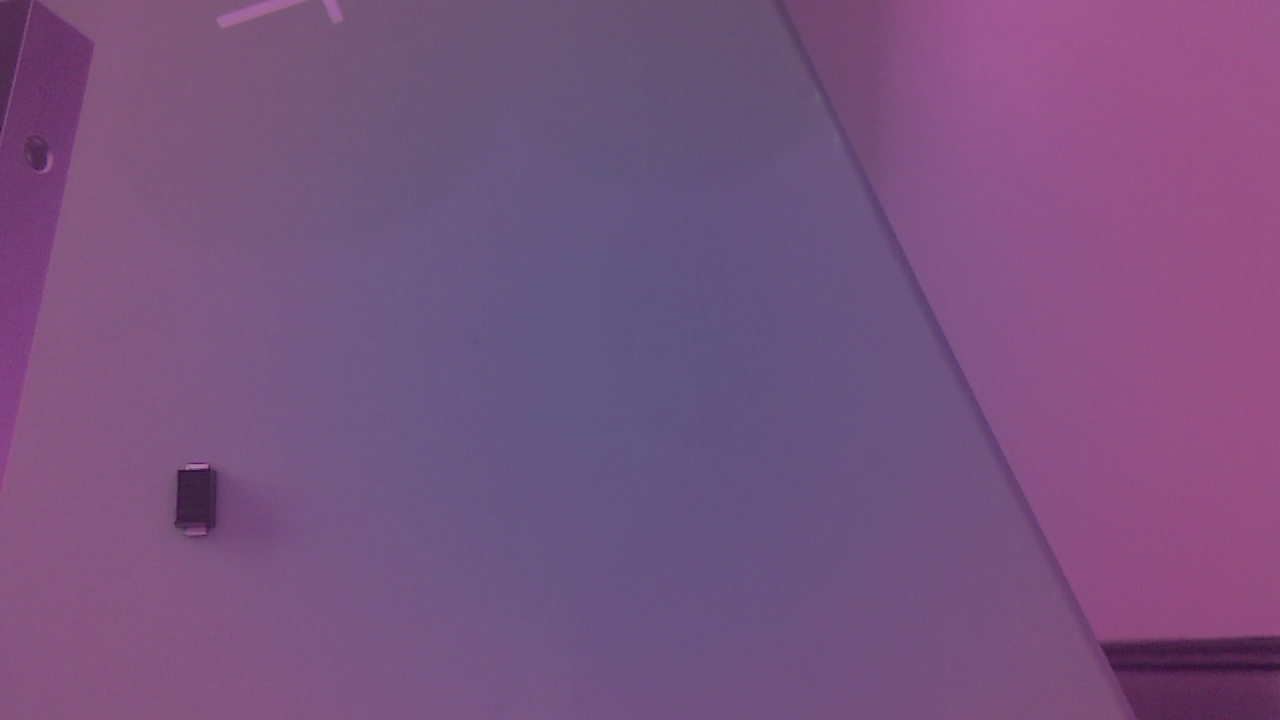Diode: (172, 461, 235, 550)
